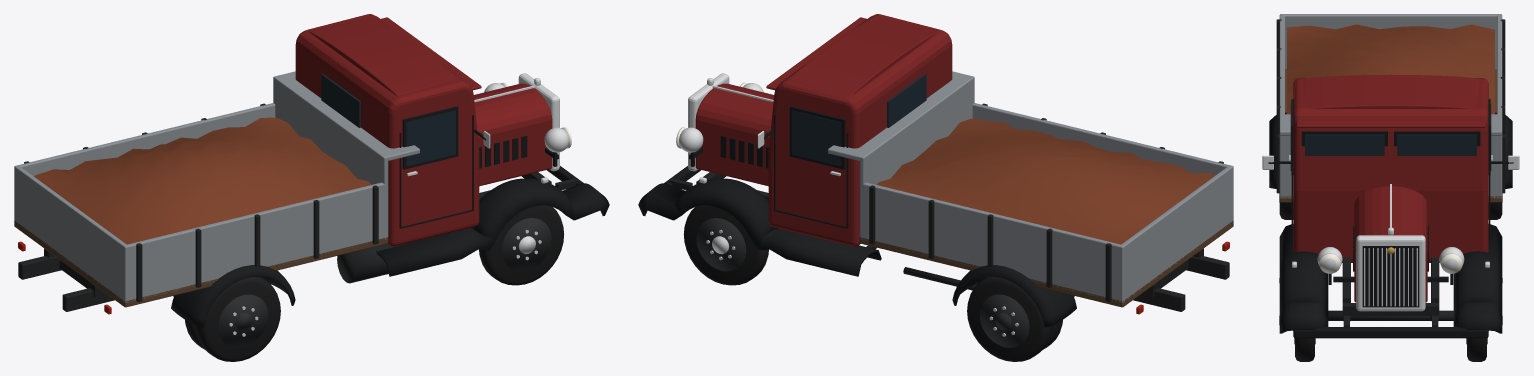
Rendered from mps_iron_ore_truck.glb.
3 renders of one model, left to right at view 1: azimuth 30°, elevation 25°; view 2: azimuth 150°, elevation 25°; view 3: azimuth 270°, elevation 25°, orthographic.
Parts seen in each view (by area): view 1: monte_carga, cabine, lateral.001, paralama_d.001, tampa, teto_abaulado, capo, frente_cac, lateral, roda_t_pneu0.001, roda_d_pneu0.001, paralama_t.001 (+13 smaller); view 2: monte_carga, cabine, lateral, paralama_d, tampa, teto_abaulado, capo, frente_cac, lateral.001, roda_t_pneu1, roda_d_pneu0, paralama_t (+12 smaller); view 3: cabine, monte_carga, teto_abaulado, paralama_d, paralama_d.001, capo, radiador_colmeia, tampa, para_choque, radiador_moldura, parabrisa, parabrisa.001 (+25 smaller).
Part boxes in pixels (x1,y1,x2,y2): monte_carga: (33, 117, 371, 244); cabine: (295, 14, 479, 246); lateral.001: (123, 182, 388, 302); paralama_d.001: (376, 178, 609, 276); tampa: (14, 166, 128, 302); teto_abaulado: (308, 16, 464, 101); capo: (473, 83, 552, 186); frente_cac: (273, 80, 388, 239); lateral: (14, 103, 275, 221); roda_t_pneu0.001: (195, 276, 280, 361); roda_d_pneu0.001: (479, 205, 564, 285); paralama_t.001: (171, 265, 295, 327); monte_carga: (876, 118, 1215, 244); cabine: (768, 14, 952, 246); lateral: (859, 182, 1124, 302); paralama_d: (638, 178, 881, 276); tampa: (1119, 166, 1233, 302); teto_abaulado: (783, 16, 939, 101); capo: (695, 83, 774, 186); frente_cac: (859, 80, 974, 239); lateral.001: (972, 103, 1233, 174); roda_t_pneu1: (967, 276, 1052, 361); roda_d_pneu0: (683, 205, 768, 285); paralama_t: (952, 265, 1076, 327); cabine: (1293, 78, 1488, 262); monte_carga: (1287, 24, 1494, 114); teto_abaulado: (1294, 74, 1487, 111); paralama_d: (1453, 224, 1502, 333); paralama_d.001: (1279, 224, 1328, 333); capo: (1354, 186, 1427, 302); radiador_colmeia: (1362, 246, 1419, 307); tampa: (1280, 14, 1501, 68); para_choque: (1293, 327, 1488, 338); radiador_moldura: (1356, 235, 1425, 311); parabrisa: (1397, 134, 1476, 155); parabrisa.001: (1305, 134, 1384, 155).
Size of the model in its own units: 5.69 by 2.34 by 2.45.
